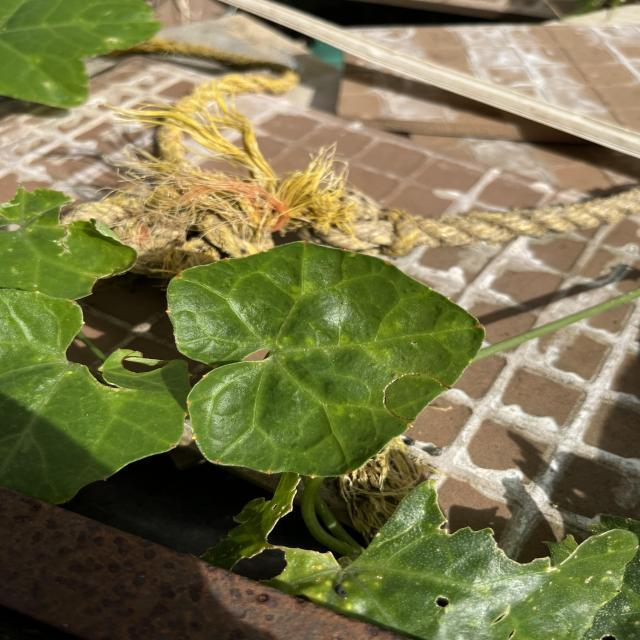Coccinia grandis: (163, 238, 488, 480)
